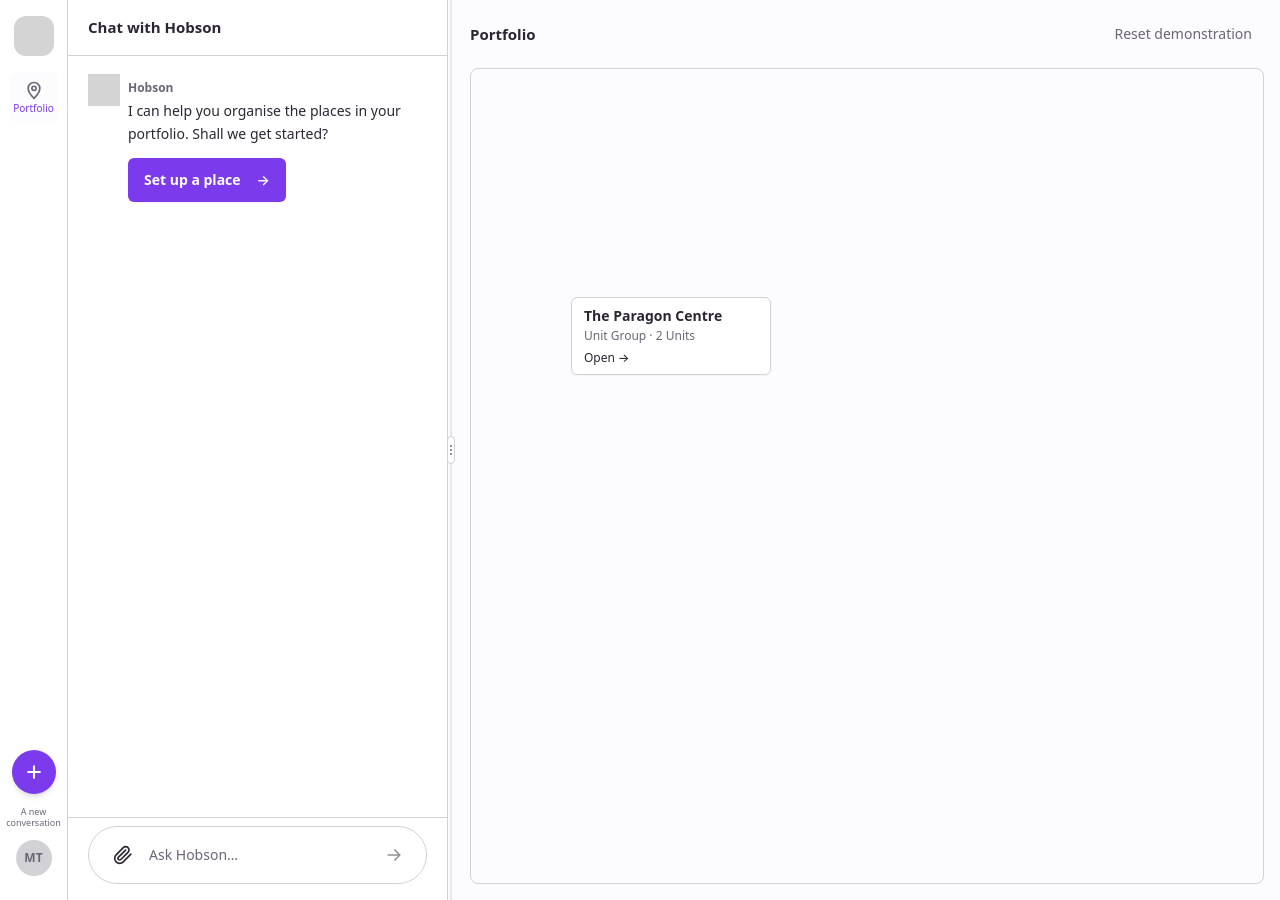
Test case: Prototype Unit opening setup › finishes the opening interaction for A standalone Unit without creating records
The width and height of the screenshot is (1280, 900).
Click the button "Set up a place →" at (207, 180), box [128,158,286,202]
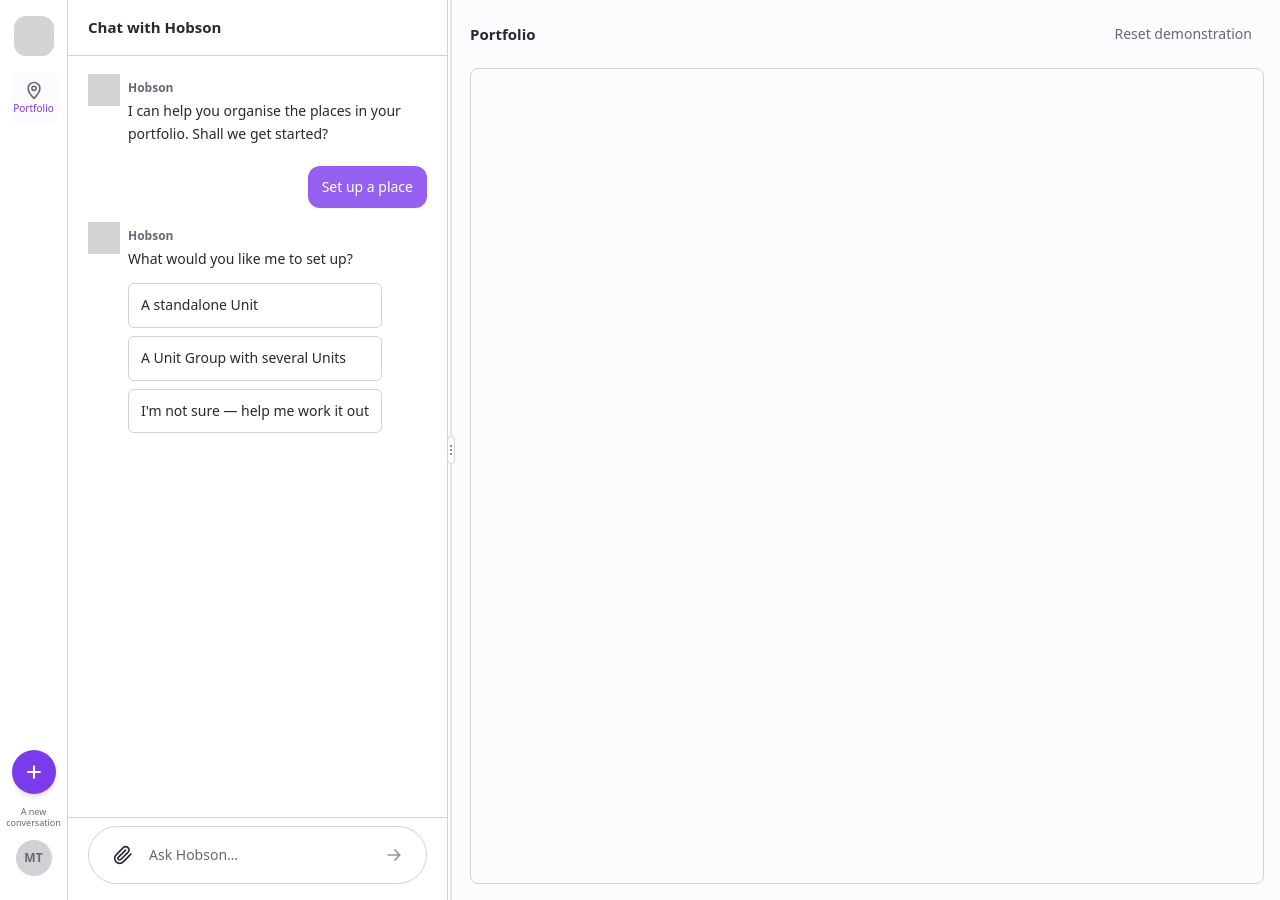
Click the button "A standalone Unit" at (255, 305), box [128,283,382,328]
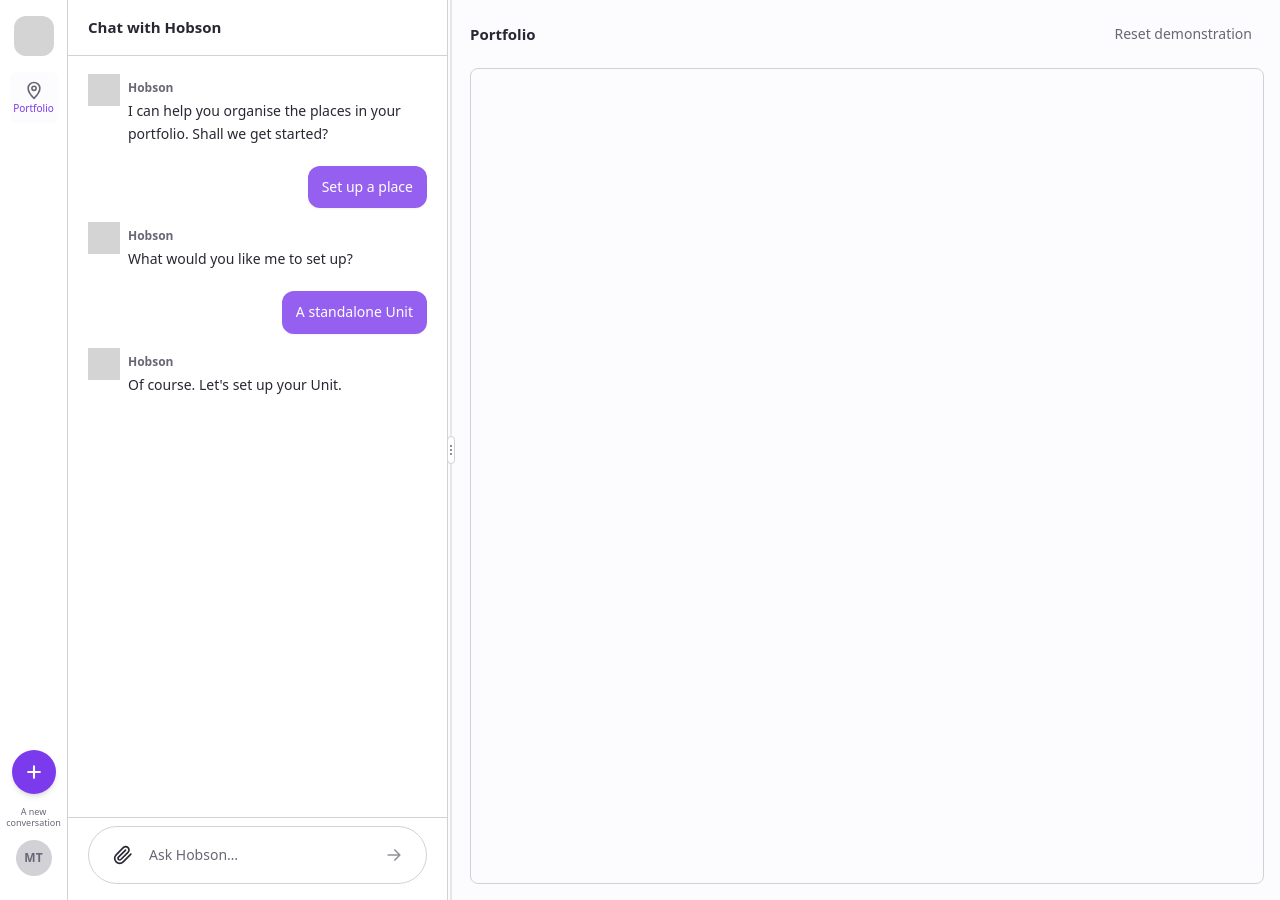
expect the number of fields is 1: met, box [149,845,370,865]
expect no the button "A Unit Group with several Units" are shown: met
